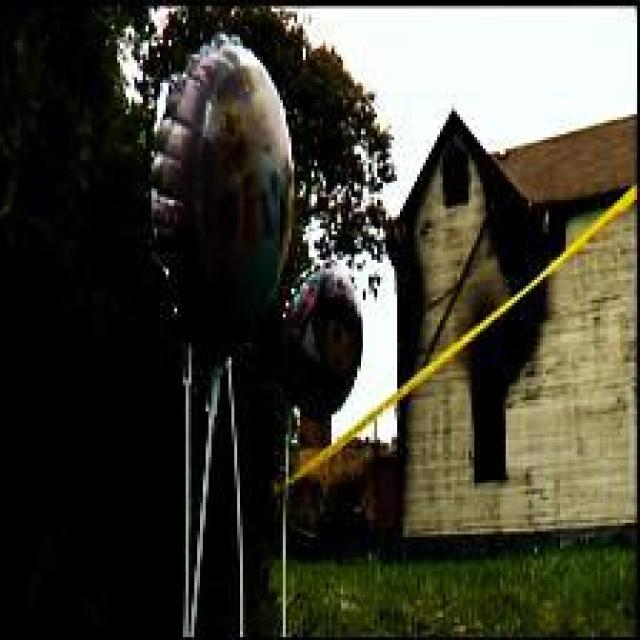other: (439, 252, 565, 306)
